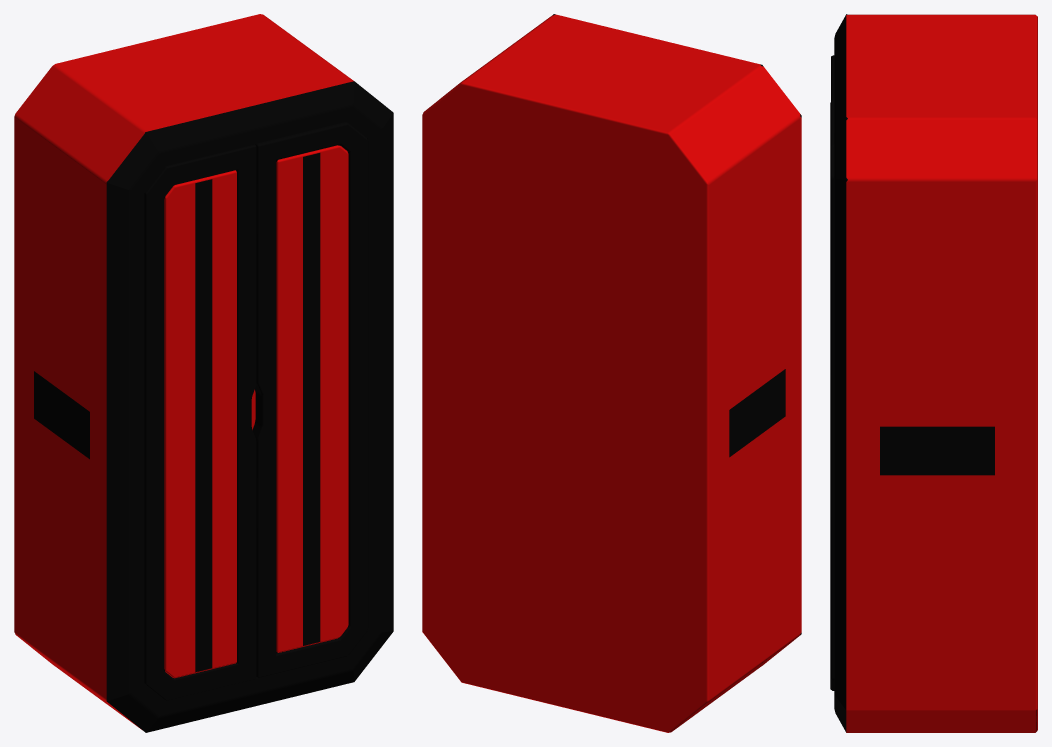
File: wardrobe.glb
3 renders of one model, left to right at view 1: azimuth 30°, elevation 25°; view 2: azimuth 150°, elevation 25°; view 3: azimuth 270°, elevation 25°, orthographic. The views are drawn at different scales.
Parts seen in each view (by area): view 1: wardrobe, wardrobe_door_door_r, wardrobe_decal_door_l, wardrobe_decals; view 2: wardrobe, wardrobe_decals; view 3: wardrobe, wardrobe_decals, wardrobe_door_door_r.
Part boxes in pixels (x1,y1,x2,y2): wardrobe: (14,14,393,732); wardrobe_door_door_r: (252,122,368,678); wardrobe_decal_door_l: (144,144,256,700); wardrobe_decals: (34,91,375,709); wardrobe: (422,14,801,732); wardrobe_decals: (729,369,785,457); wardrobe: (834,14,1037,732); wardrobe_decals: (836,32,994,475); wardrobe_door_door_r: (830,100,834,690).
Size of the model in its own units: 1 by 2 by 0.6122.
